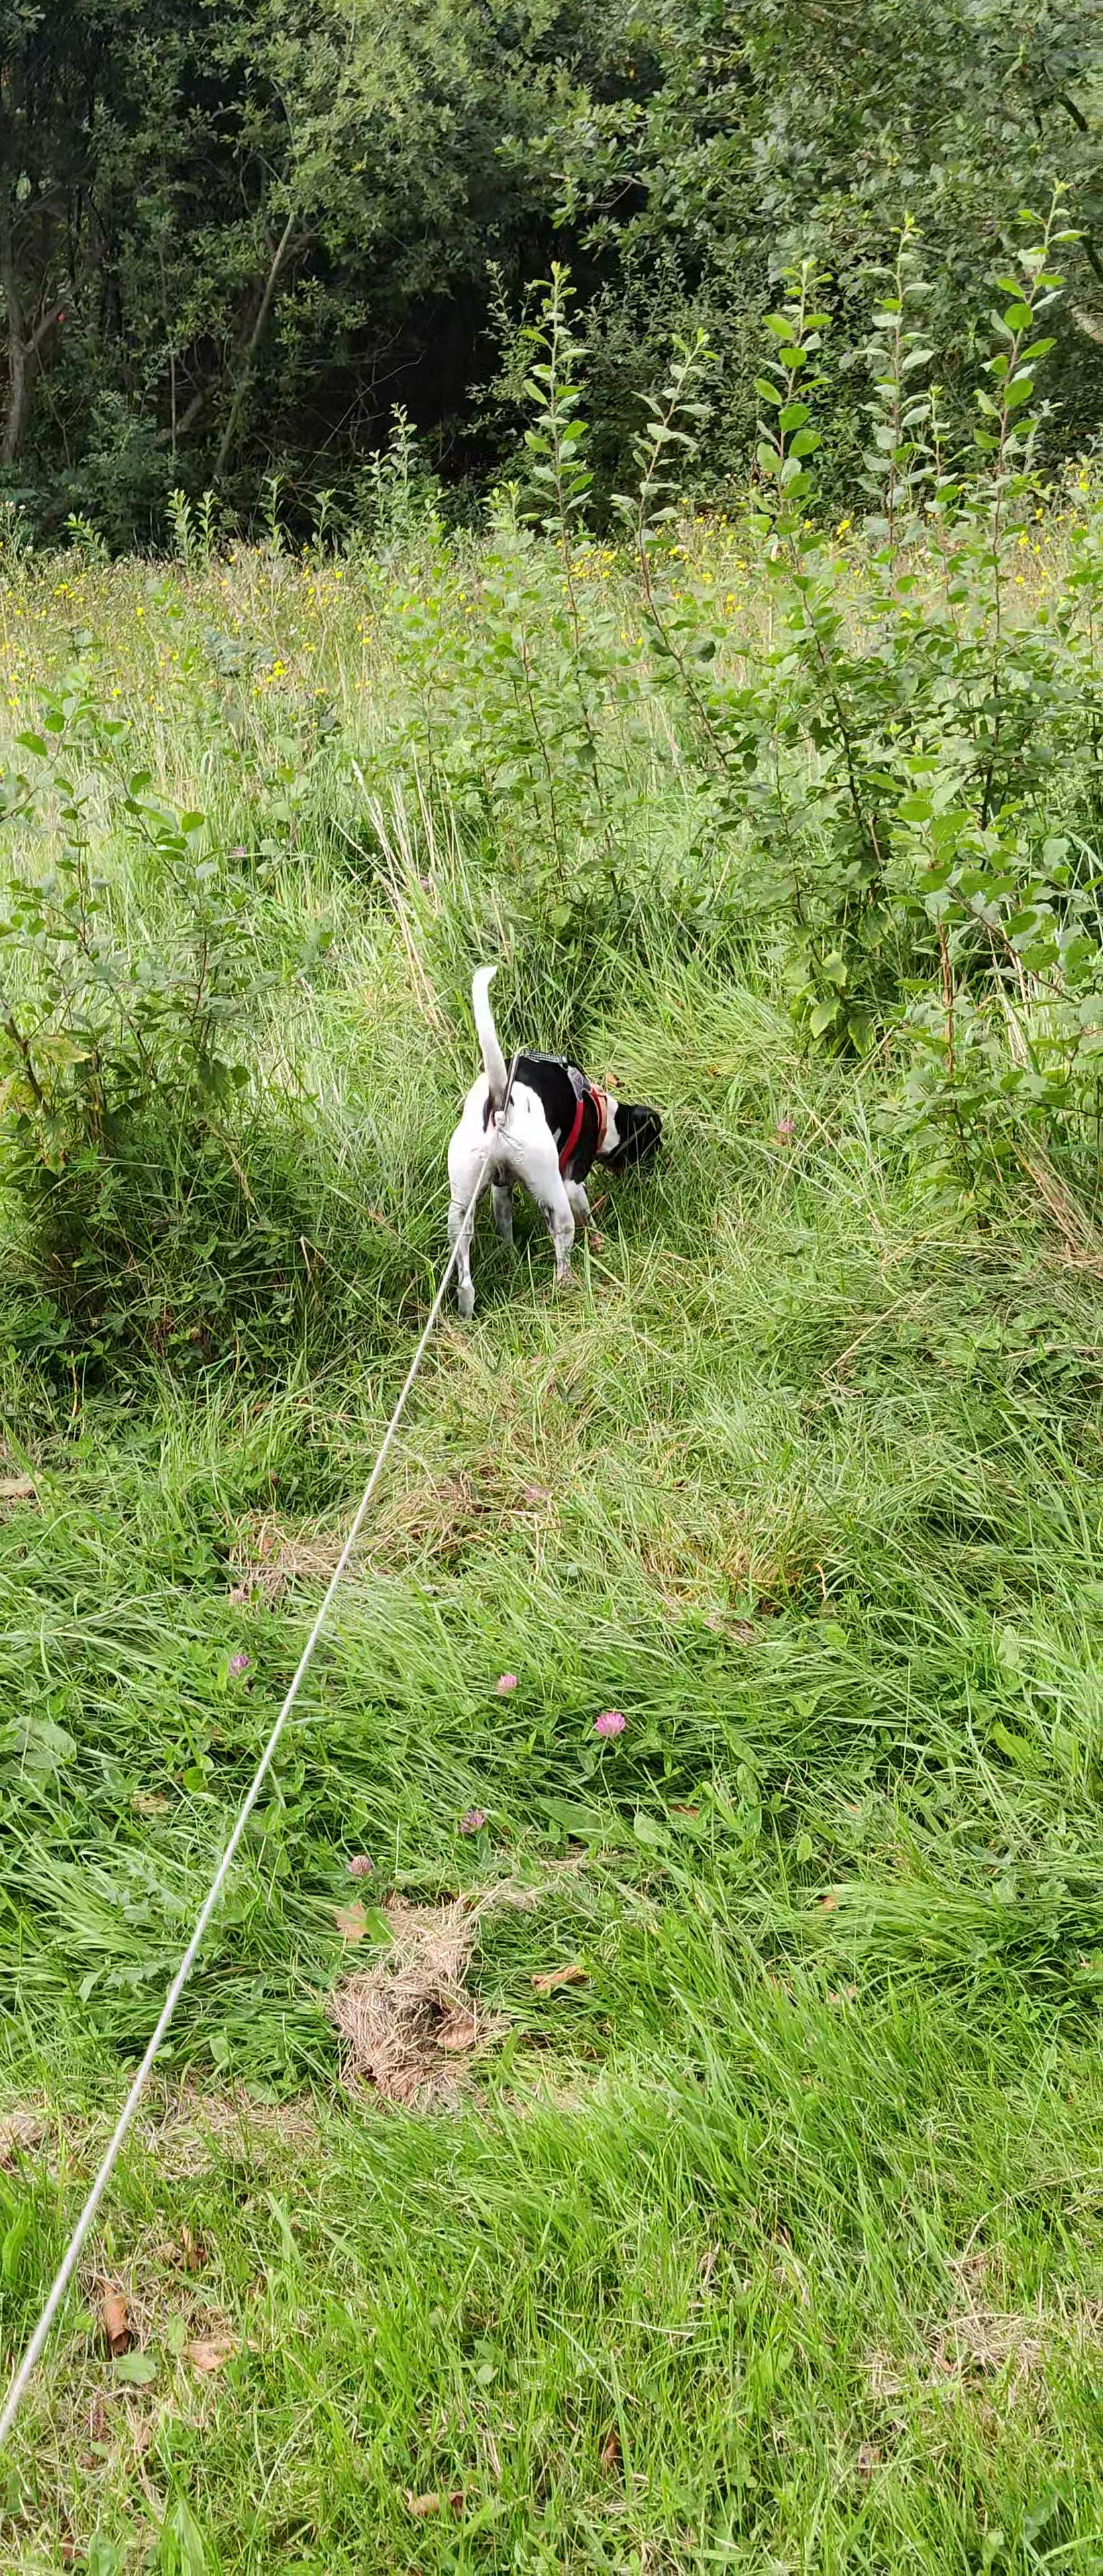Dog: (414, 951, 708, 1341)
